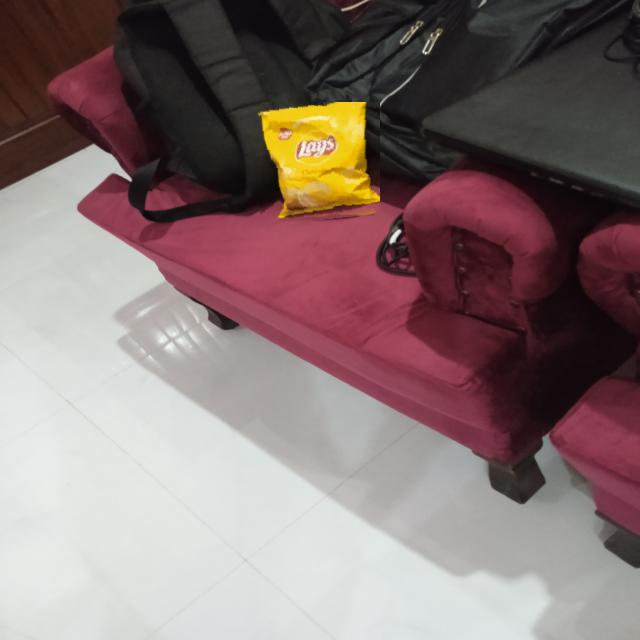Plastic: (254, 102, 380, 226)
